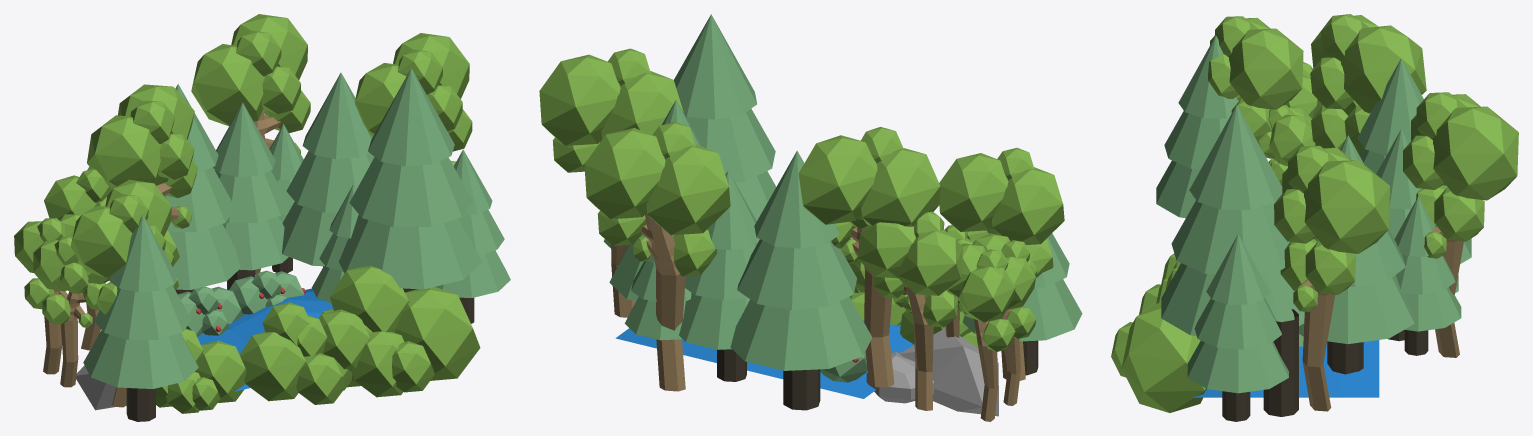
The model's file is Nature Reserve.fbx.
3 views of the same model, side by side, from view 1: azimuth 30°, elevation 25°; view 2: azimuth 150°, elevation 25°; view 3: azimuth 270°, elevation 25° (orthographic). The views are drawn at different scales.
Parts seen in each view (by area): view 1: Nature_Reserve; view 2: Nature_Reserve; view 3: Nature_Reserve.
Part boxes in pixels (box(x1,y1,x2,y2)): Nature_Reserve: box(14, 14, 510, 421); Nature_Reserve: box(539, 14, 1082, 421); Nature_Reserve: box(1111, 14, 1518, 421).
Size of the model in its own units: 15.62 by 9.71 by 11.56.
Materials: 1 (1 with a texture image).
